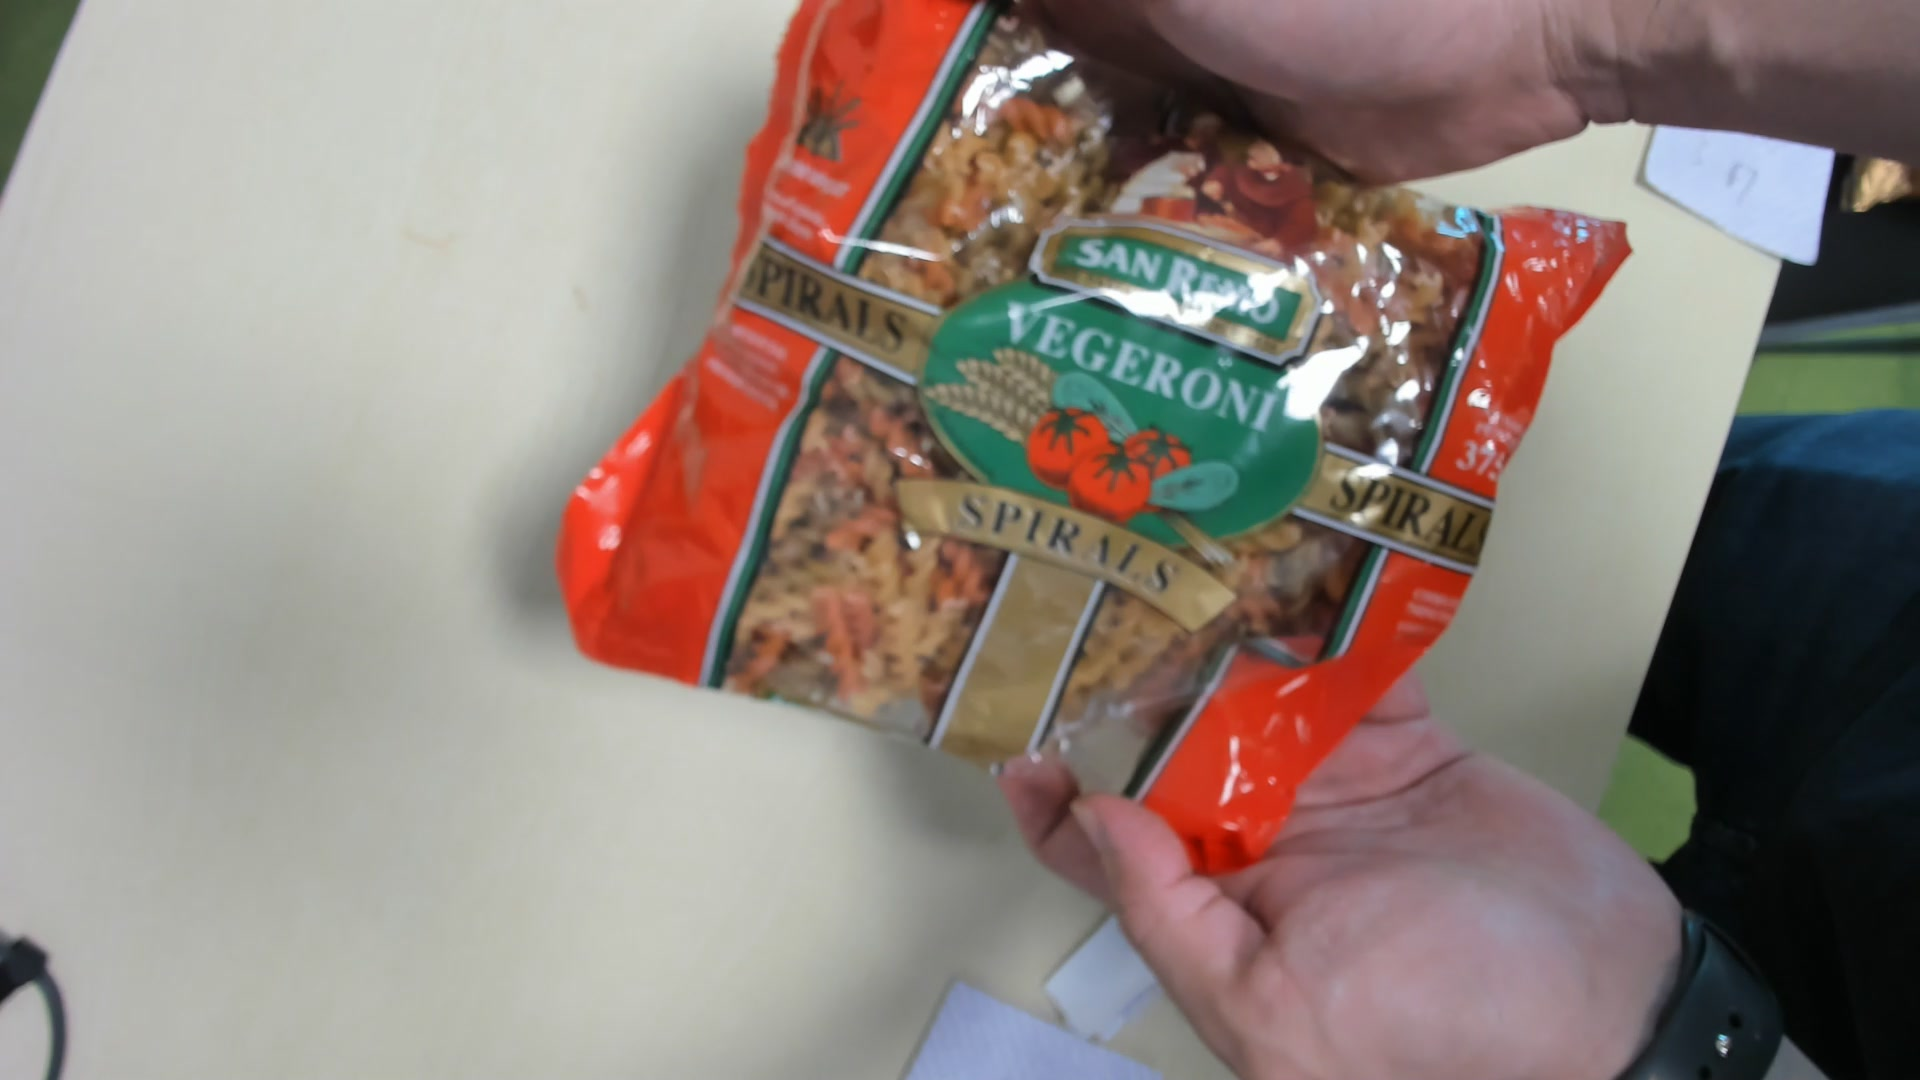Pasta_400-499g_Halal_NonHealthy: (549, 7, 1617, 889)
